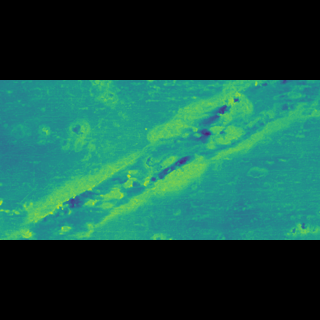Loch: (13, 119, 318, 202)
